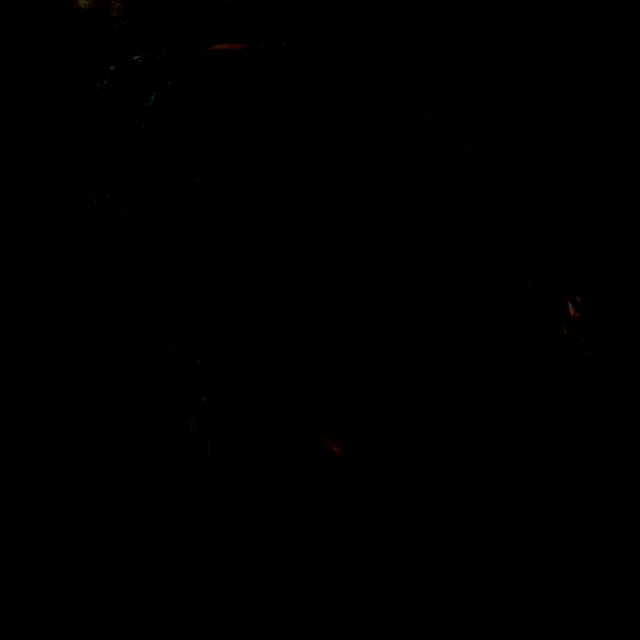Car: (85, 38, 604, 586)
